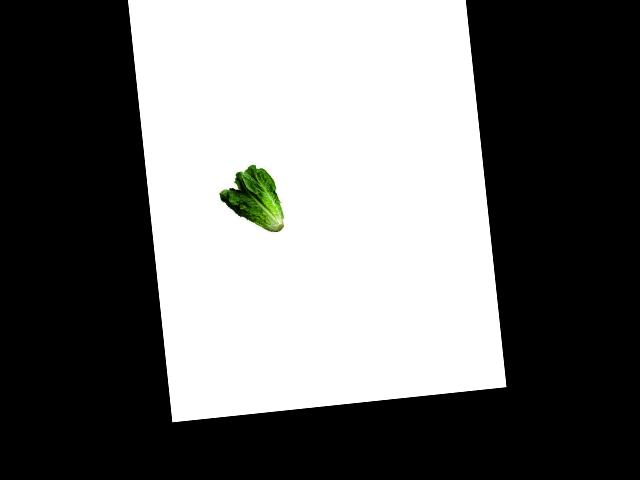lettuce: (213, 162, 288, 235)
